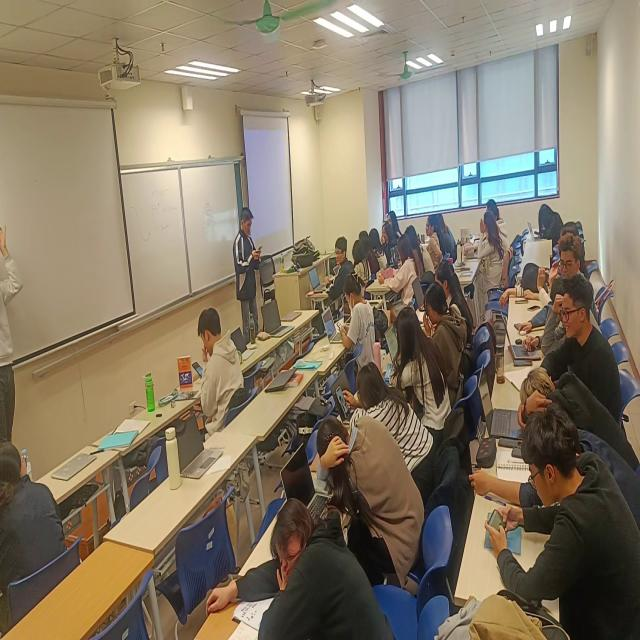raise_hand: (471, 196, 507, 298)
raise_head: (1, 440, 70, 618), (316, 232, 361, 312), (424, 213, 446, 269), (381, 220, 399, 265), (387, 205, 402, 239), (485, 193, 500, 219)
sleep: (209, 495, 397, 640), (308, 406, 429, 589), (336, 358, 442, 496), (515, 363, 640, 467), (498, 258, 557, 308), (526, 202, 568, 244)
stand: (2, 212, 26, 454), (230, 205, 267, 343)
using_computer: (389, 303, 454, 443), (500, 276, 604, 362), (433, 254, 474, 351), (461, 202, 501, 293), (404, 222, 439, 291), (350, 238, 373, 298), (435, 208, 460, 259), (358, 229, 380, 281), (371, 223, 389, 275)
using_phone: (483, 400, 640, 640), (535, 274, 626, 427), (180, 291, 251, 431), (417, 280, 471, 383), (336, 272, 379, 371), (375, 225, 422, 314)
